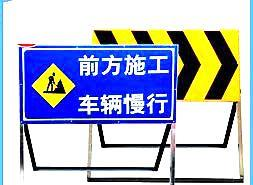sign: (18, 44, 176, 122)
